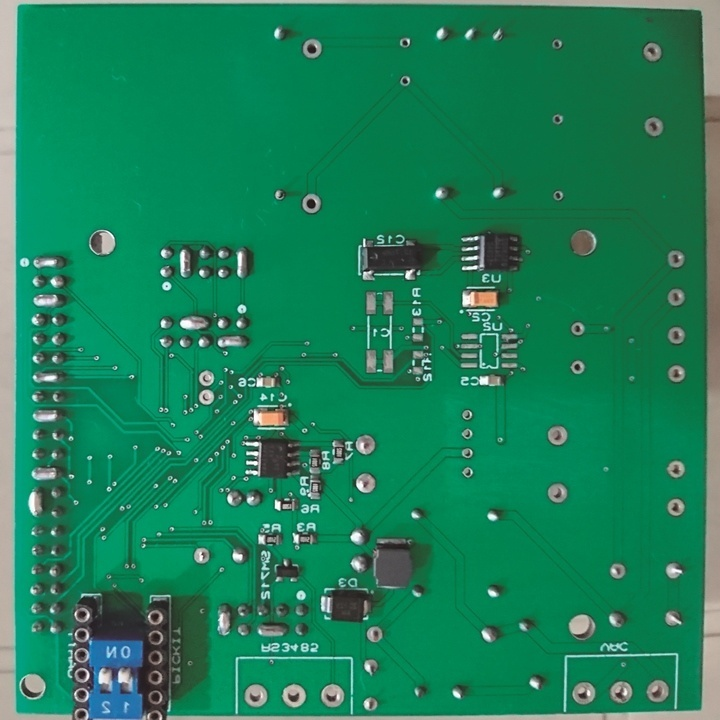F: (318, 682, 347, 712), (280, 681, 308, 711), (243, 680, 271, 710), (570, 679, 598, 706), (643, 677, 670, 705), (608, 677, 633, 706), (544, 423, 570, 449), (353, 432, 379, 458), (642, 114, 667, 140), (299, 191, 325, 216), (545, 480, 570, 506), (353, 471, 379, 494), (301, 36, 324, 61), (664, 246, 687, 271), (665, 455, 687, 480), (641, 40, 664, 63), (664, 286, 687, 309), (664, 560, 687, 583), (663, 607, 686, 630), (664, 325, 687, 347), (666, 495, 687, 519), (191, 546, 213, 567), (666, 363, 687, 384), (196, 388, 217, 408), (609, 562, 628, 584), (365, 624, 384, 646), (362, 655, 380, 678), (361, 696, 382, 714), (197, 370, 216, 388), (568, 320, 585, 338), (569, 359, 587, 375), (489, 26, 505, 44), (271, 186, 287, 203), (461, 463, 476, 481), (460, 406, 476, 421), (396, 35, 413, 49), (551, 112, 566, 127), (550, 37, 564, 51), (461, 445, 474, 460), (398, 74, 410, 89), (552, 188, 564, 203), (461, 428, 475, 440)
P: (255, 620, 291, 640), (29, 369, 68, 387), (29, 465, 67, 483), (216, 600, 233, 640), (25, 488, 46, 518), (30, 255, 67, 272), (176, 315, 213, 332), (233, 245, 250, 281), (215, 333, 251, 350), (30, 294, 70, 309), (177, 246, 193, 280), (30, 409, 67, 423)
